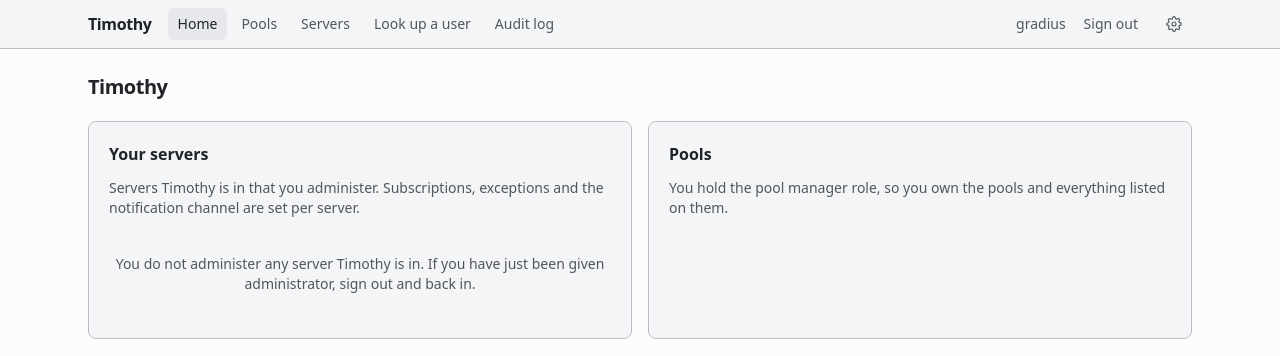
the settings menu › closes when the click lands somewhere else
This screenshot has width=1280, height=356.
Click the button named "Settings": (1174, 24) [1156,8,1192,40]
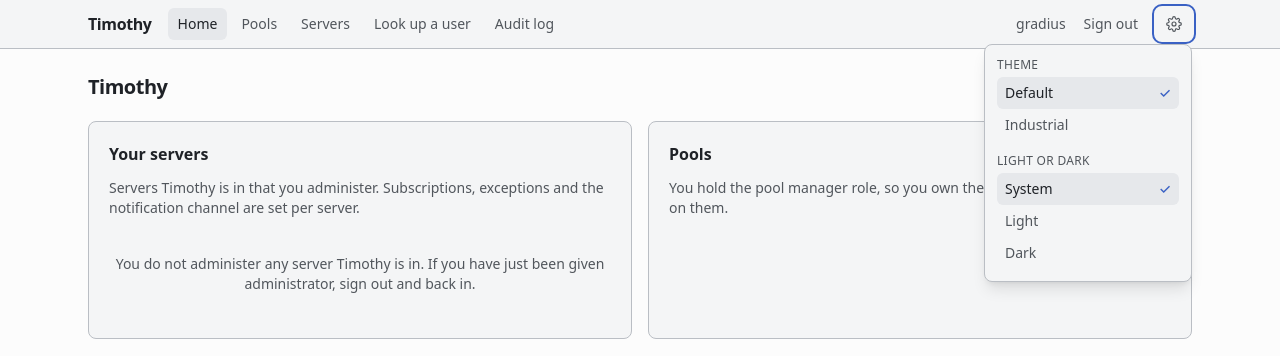
Click the link "Home": (197, 24) [168,8,227,40]
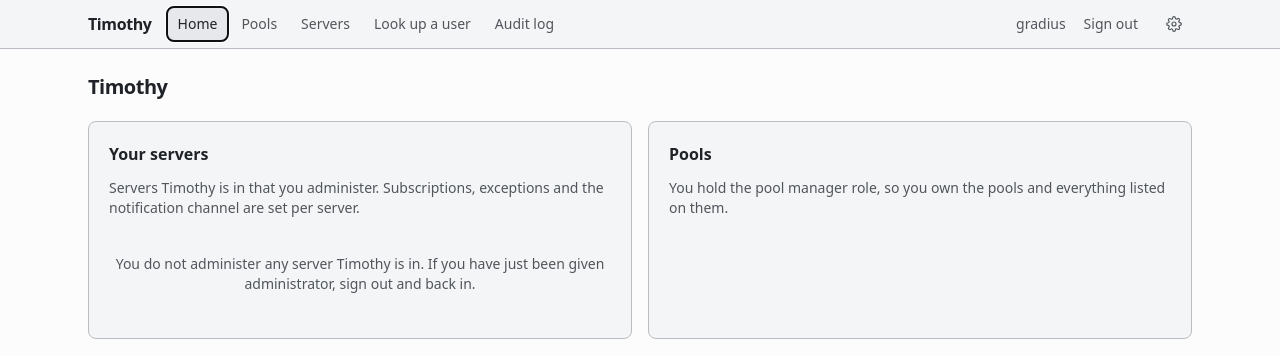
Check: the text "Theme Default ✓ Industrial Light or dark System ✓ Light Dark" is gone
